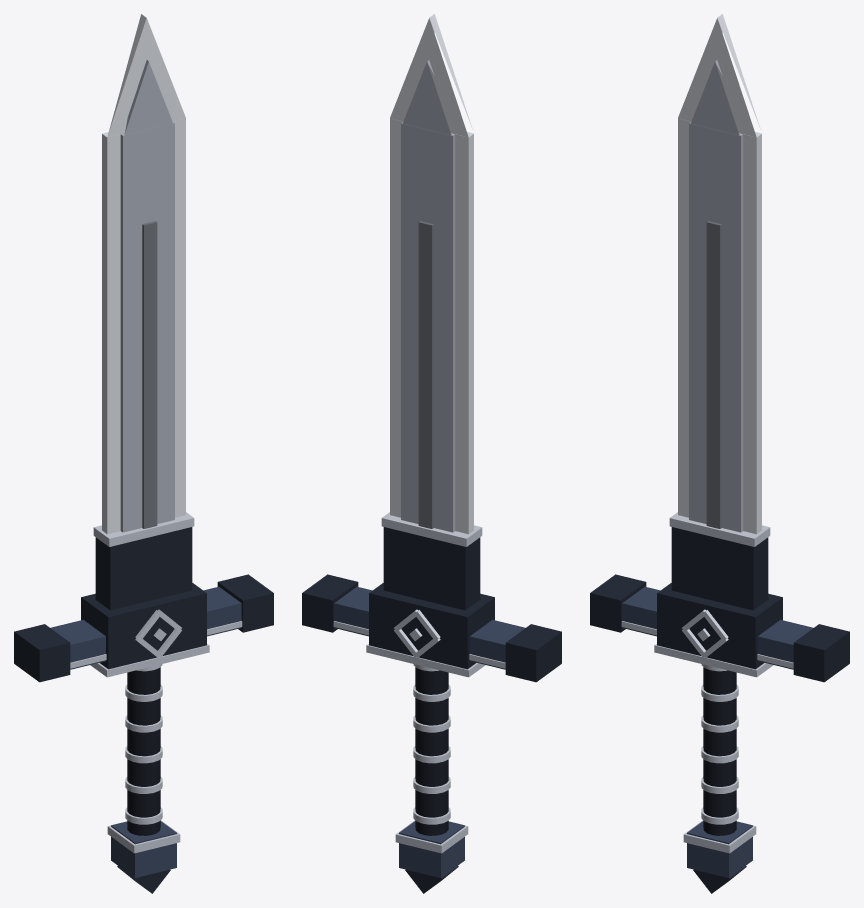
3 views of the same model, side by side, from view 1: azimuth 30°, elevation 25°; view 2: azimuth 150°, elevation 25°; view 3: azimuth 330°, elevation 25° (orthographic).
Visible parts, largest first — view 1: vanguard-claymore; view 2: vanguard-claymore; view 3: vanguard-claymore.
Part boxes in pixels (bbox=[...]): vanguard-claymore: bbox=[14, 14, 273, 893]; vanguard-claymore: bbox=[302, 14, 561, 893]; vanguard-claymore: bbox=[590, 14, 849, 893].
Bounding box in the file's own units: 0.4049 × 1.44 × 0.1025.
